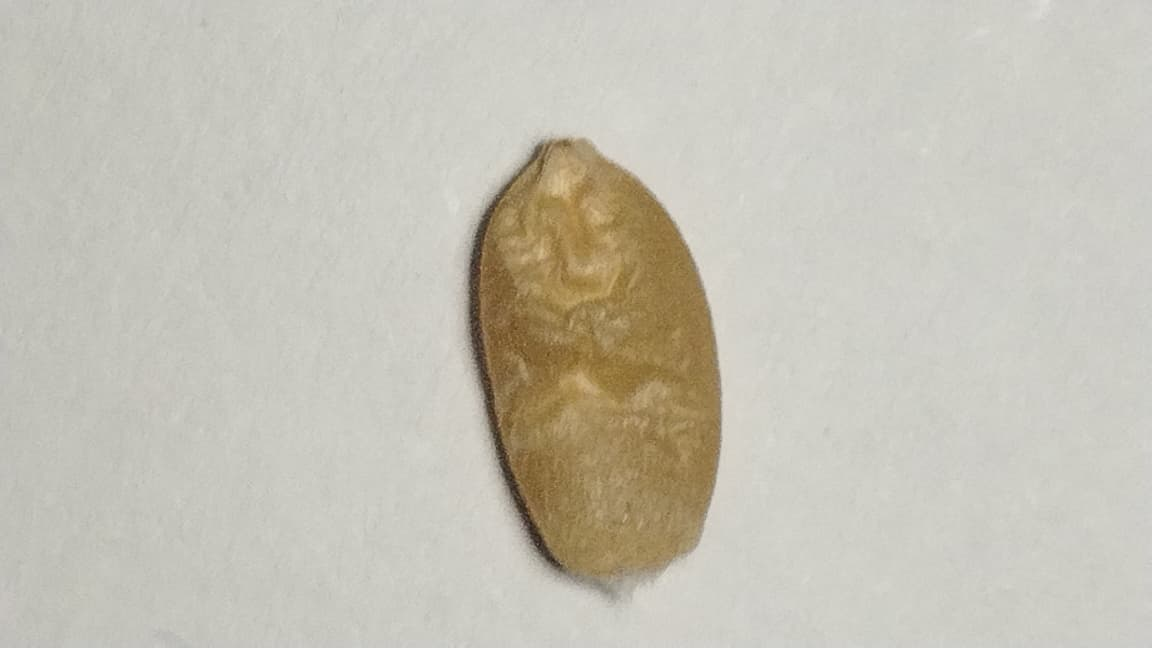healthy: (478, 140, 719, 579)
